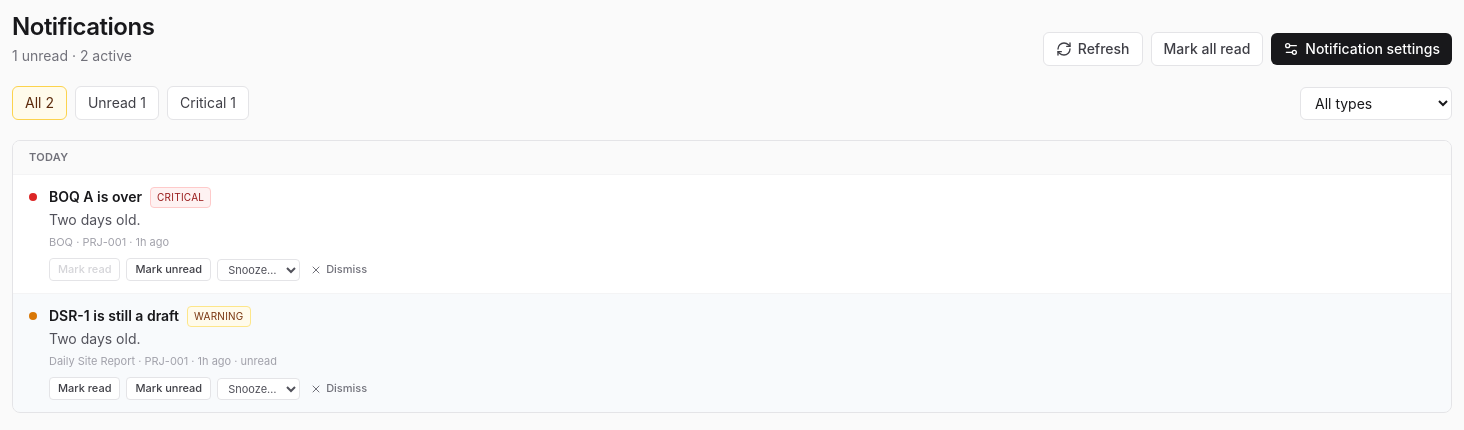
Test: notifications page › filters by unread, critical and type
Expected: the text "DSR-1 is still a draft" is shown, [49,306,179,326]
Click the button with test id "notification-filter-unread" at (117, 103), box [75,86,159,120]
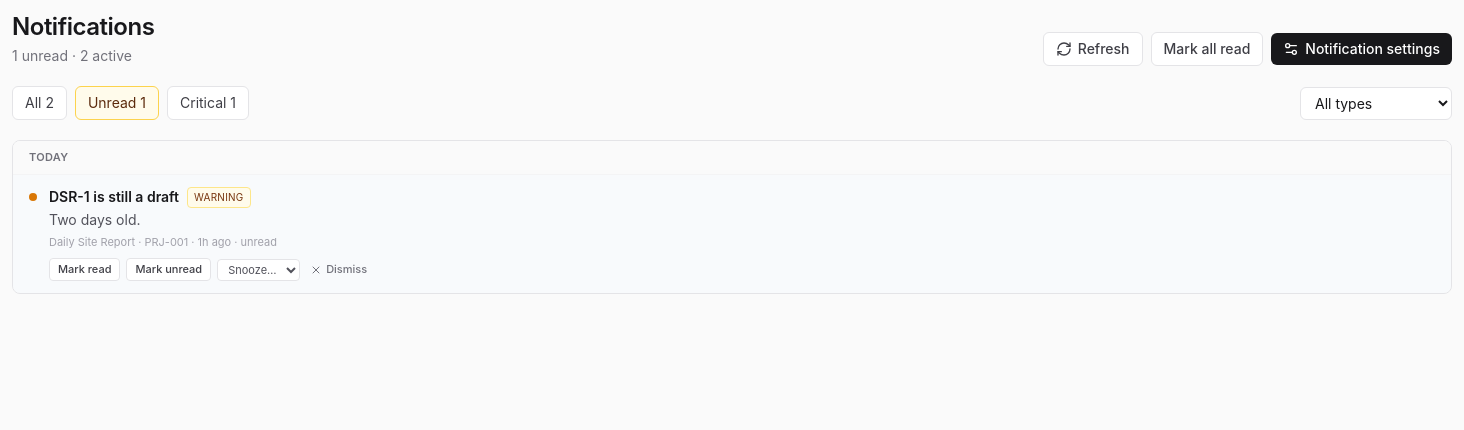
Result: the button "BOQ A is over" is gone
Click the button with test id "notification-filter-critical" at (208, 103), box [167,86,249,120]
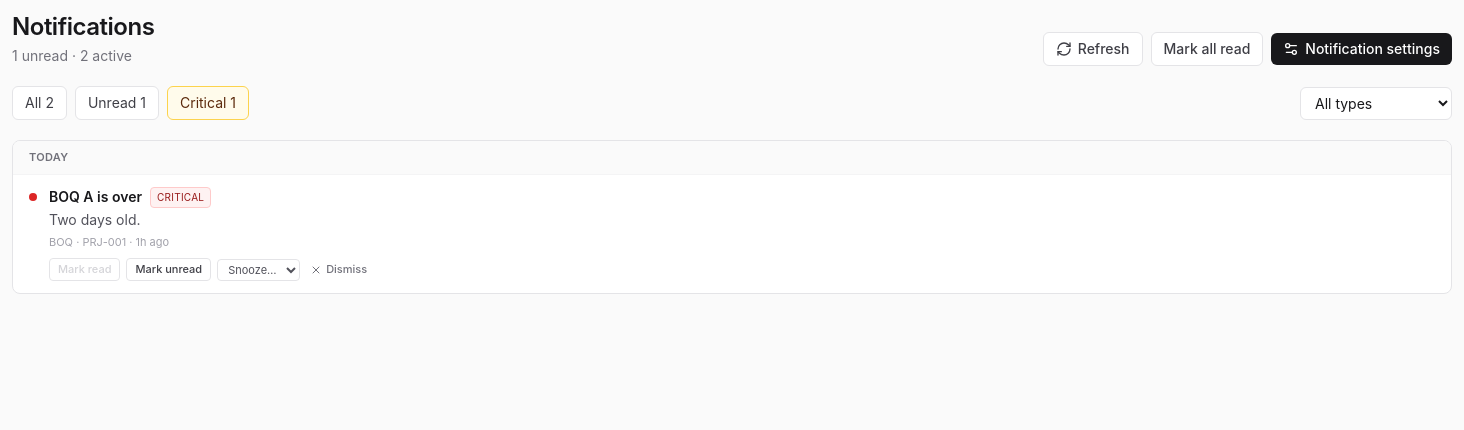
Result: the text "BOQ A is over" is shown at [49,187,142,207]
Result: the button "DSR-1 is still a draft" is gone
Click the button with test id "notification-filter-all" at (39, 103), box [12,86,67,120]
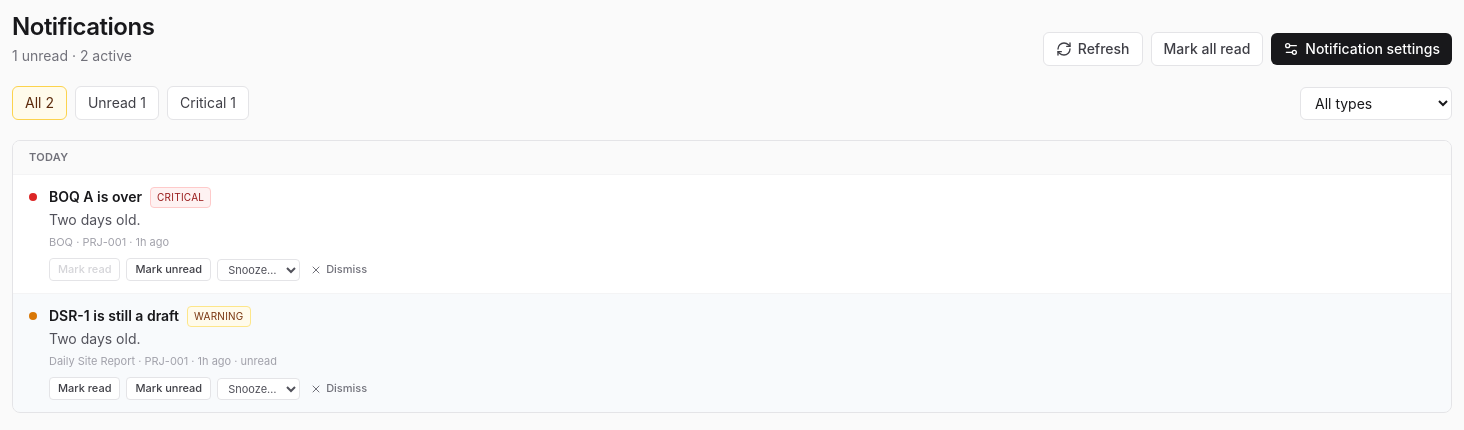
Select "BOQ" in the dropdown with test id "notification-kind-filter" at (1376, 103), box [1300,87,1452,120]
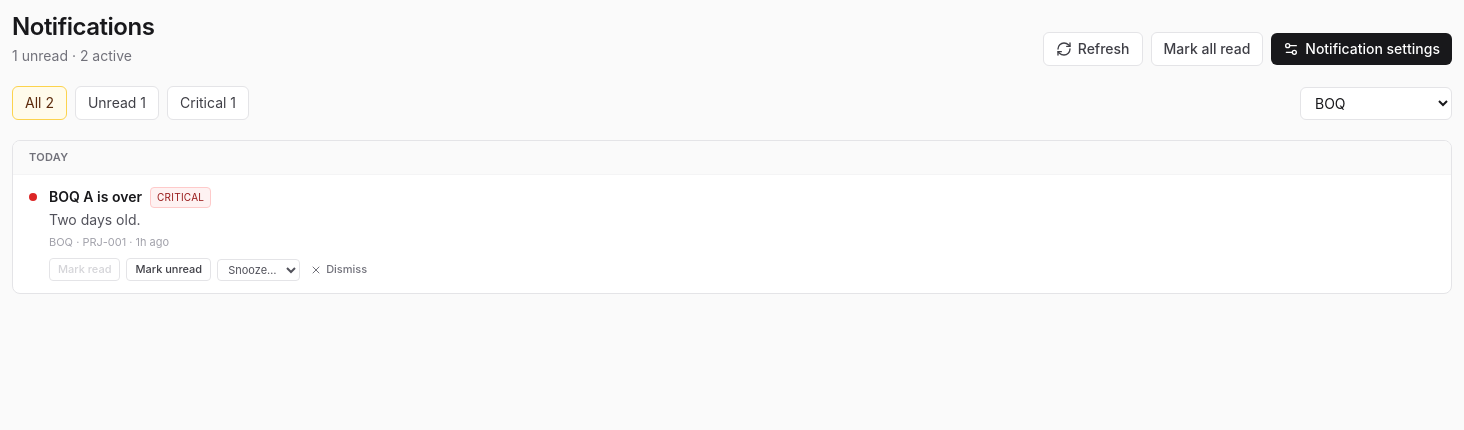
Result: the text "BOQ A is over" is shown at [49,187,142,207]
Result: the button "DSR-1 is still a draft" is gone
